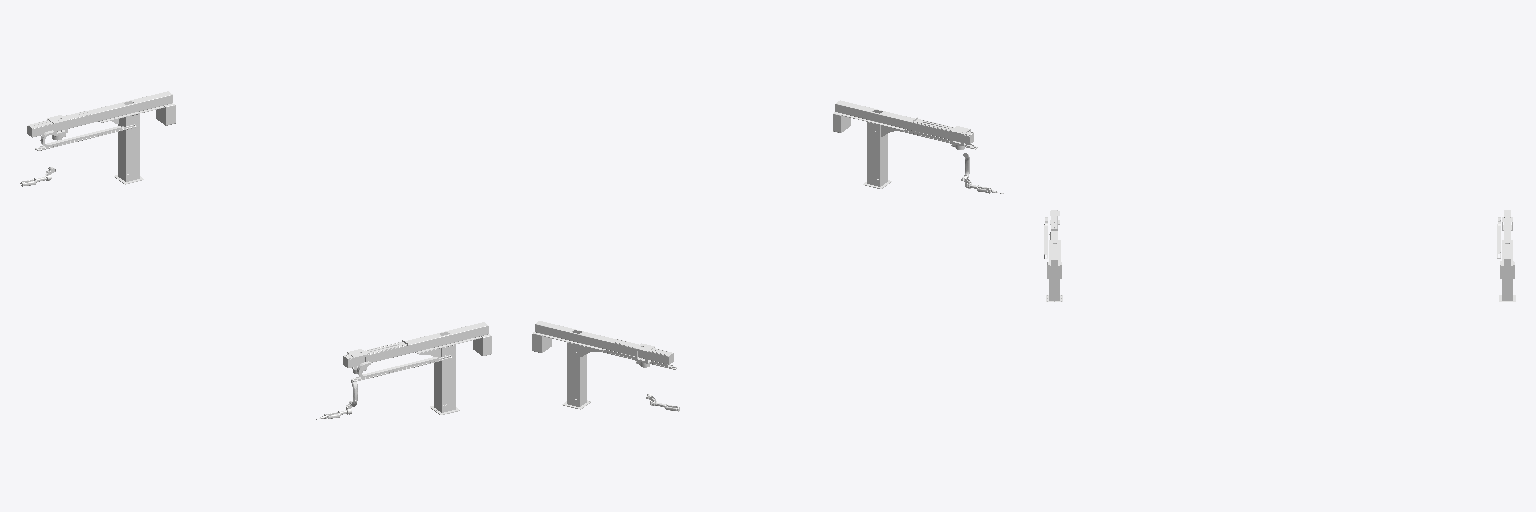
The robot description file, URDF, robot "天工机器人":
<?xml version="1.0" encoding="utf-8"?>
<!-- This URDF was automatically created by SolidWorks to URDF Exporter! Originally created by Stephen Brawner (brawner@gmail.com) 
     Commit Version: 1.6.0-4-g7f85cfe  Build Version: 1.6.7995.38578
     For more information, please see http://wiki.ros.org/sw_urdf_exporter -->
<robot
  name="天工机器人">
  <link
    name="base_link">
    <inertial>
      <origin
        xyz="0 0 0"
        rpy="0 0 0" />
    </inertial>
    <visual>
      <origin
        xyz="0 0 0"
        rpy="0 0 0" />
      <geometry>
        <mesh
          filename="meshes/base_link.STL" />
      </geometry>
      <material
        name="">
        <color
          rgba="1 1 1 1" />
      </material>
    </visual>
    <collision>
      <origin
        xyz="0 0 0"
        rpy="0 0 0" />
      <geometry>
        <mesh
          filename="meshes/base_link.STL" />
      </geometry>
    </collision>
  </link>
  <link
    name="Link1">
    <inertial>
      <origin
        xyz="0 0 0"
        rpy="0 0 0" />
      
    </inertial>
    <visual>
      <origin
        xyz="0 0 0"
        rpy="0 0 0" />
      <geometry>
        <mesh
          filename="meshes/Link1.STL" />
      </geometry>
      <material
        name="">
        <color
          rgba="1 1 1 1" />
      </material>
    </visual>
    <collision>
      <origin
        xyz="0 0 0"
        rpy="0 0 0" />
      <geometry>
        <mesh
          filename="meshes/Link1.STL" />
      </geometry>
    </collision>
  </link>
  <joint
    name="joint1"
    type="prismatic">
    <origin
      xyz="-0.0018683 -0.5 0.02"
      rpy="3.1416 0 -1.5708" />
    <parent
      link="base_link" />
    <child
      link="Link1" />
    <axis
      xyz="1 0 0" />
    <limit
      lower="0.1"
      upper="14"
      effort="0"
      velocity="0" />
  </joint>
  <link
    name="Link1-0">
    <inertial>
      <origin
        xyz="0 0 0"
        rpy="0 0 0" />
    </inertial>
    <visual>
      <origin
        xyz="0 0 0"
        rpy="0 0 0" />
      <geometry>
        <mesh
          filename="meshes/Link1-0.STL" />
      </geometry>
      <material
        name="">
        <color
          rgba="1 1 1 1" />
      </material>
    </visual>
    <collision>
      <origin
        xyz="0 0 0"
        rpy="0 0 0" />
      <geometry>
        <mesh
          filename="meshes/Link1-0.STL" />
      </geometry>
    </collision>
  </link>
  <joint
    name="joint1-0"
    type="prismatic">
    <origin
      xyz="-0.0057039 1.8015 -2.5569"
      rpy="-1.5708 0 -1.5708" />
    <parent
      link="Link1" />
    <child
      link="Link1-0" />
    <axis
      xyz="1 0 0" />
    <limit
      lower="-1.38"
      upper="-0.1"
      effort="0"
      velocity="0"/>
  </joint>
  <link
    name="Link1-1">
    <inertial>
      <origin
        xyz="0 0 0"
        rpy="0 0 0" />
    </inertial>
    <visual>
      <origin
        xyz="0 0 0"
        rpy="0 0 0" />
      <geometry>
        <mesh
          filename="meshes/Link1-1.STL" />
      </geometry>
      <material
        name="">
        <color
          rgba="1 1 1 1" />
      </material>
    </visual>
    <collision>
      <origin
        xyz="0 0 0"
        rpy="0 0 0" />
      <geometry>
        <mesh
          filename="meshes/Link1-1.STL" />
      </geometry>
    </collision>
  </link>
  <joint
    name="joint1-1"
    type="revolute">
    <origin
      xyz="0 -0.6255 0"
      rpy="0 1.5708 3.1416" />
    <parent
      link="Link1-0" />
    <child
      link="Link1-1" />
    <axis
      xyz="0 1 0" />
    <limit
      lower="-3.14"
      upper="3.14"
      effort="100"
      velocity="10" />
  </joint>
  <link
    name="Link1-2">
    <inertial>
      <origin
        xyz="0 0 0"
        rpy="0 0 0" />
      
    </inertial>
    <visual>
      <origin
        xyz="0 0 0"
        rpy="0 0 0" />
      <geometry>
        <mesh
          filename="meshes/Link1-2.STL" />
      </geometry>
      <material
        name="">
        <color
          rgba="1 1 1 1" />
      </material>
    </visual>
    <collision>
      <origin
        xyz="0 0 0"
        rpy="0 0 0" />
      <geometry>
        <mesh
          filename="meshes/Link1-2.STL" />
      </geometry>
    </collision>
  </link>
  <joint
    name="joint1-2"
    type="revolute">
    <origin
      xyz="-0.038003 0.242 0.18"
      rpy="0 -1.5708 -1.5708" />
    <parent
      link="Link1-1" />
    <child
      link="Link1-2" />
    <axis
      xyz="0 -1 0" />
    <limit
      lower="-3.14"
      upper="3.14"
      effort="100"
      velocity="10" />
  </joint>
  <link
    name="Link1-3">
    <inertial>
      <origin
        xyz="0 0 0"
        rpy="0 0 0" />
      
    </inertial>
    <visual>
      <origin
        xyz="0 0 0"
        rpy="0 0 0" />
      <geometry>
        <mesh
          filename="meshes/Link1-3.STL" />
      </geometry>
      <material
        name="">
        <color
          rgba="1 1 1 1" />
      </material>
    </visual>
    <collision>
      <origin
        xyz="0 0 0"
        rpy="0 0 0" />
      <geometry>
        <mesh
          filename="meshes/Link1-3.STL" />
      </geometry>
    </collision>
  </link>
  <joint
    name="joint1-3"
    type="revolute">
    <origin
      xyz="0 -0.008 0.8"
      rpy="0 0 0" />
    <parent
      link="Link1-2" />
    <child
      link="Link1-3" />
    <axis
      xyz="0 -1 0" />
    <limit
      lower="-3.14"
      upper="3.14"
      effort="100"
      velocity="10" />
  </joint>
  <link
    name="Link1-4">
    <inertial>
      <origin
        xyz="0 0 0"
        rpy="0 0 0" />
      
    </inertial>
    <visual>
      <origin
        xyz="0 0 0"
        rpy="0 0 0" />
      <geometry>
        <mesh
          filename="meshes/Link1-4.STL" />
      </geometry>
      <material
        name="">
        <color
          rgba="1 1 1 1" />
      </material>
    </visual>
    <collision>
      <origin
        xyz="0 0 0"
        rpy="0 0 0" />
      <geometry>
        <mesh
          filename="meshes/Link1-4.STL" />
      </geometry>
    </collision>
  </link>
  <joint
    name="joint1-4"
    type="revolute">
    <origin
      xyz="0.0835 0.0433 0.225"
      rpy="0 0 0" />
    <parent
      link="Link1-3" />
    <child
      link="Link1-4" />
    <axis
      xyz="1 0 0" />
    <limit
      lower="-3.14"
      upper="3.14"
      effort="100"
      velocity="10" />
  </joint>
  <link
    name="Link1-5">
    <inertial>
      <origin
        xyz="0 0 0"
        rpy="0 0 0" />
      
    </inertial>
    <visual>
      <origin
        xyz="0 0 0"
        rpy="0 0 0" />
      <geometry>
        <mesh
          filename="meshes/Link1-5.STL" />
      </geometry>
      <material
        name="">
        <color
          rgba="1 1 1 1" />
      </material>
    </visual>
    <collision>
      <origin
        xyz="0 0 0"
        rpy="0 0 0" />
      <geometry>
        <mesh
          filename="meshes/Link1-5.STL" />
      </geometry>
    </collision>
  </link>
  <joint
    name="joint1-5"
    type="revolute">
    <origin
      xyz="0.9265 -0.0353 0"
      rpy="0 0 0" />
    <parent
      link="Link1-4" />
    <child
      link="Link1-5" />
    <axis
      xyz="0 1 0" />
    <limit
      lower="-3.14"
      upper="3.14"
      effort="100"
      velocity="10" />
  </joint>
  <link
    name="Link1-6">
    <inertial>
      <origin
        xyz="0 0 0"
        rpy="0 0 0" />
      
    </inertial>
    <visual>
      <origin
        xyz="0 0 0"
        rpy="0 0 0" />
      <geometry>
        <mesh
          filename="meshes/Link1-6.STL" />
      </geometry>
      <material
        name="">
        <color
          rgba="1 1 1 1" />
      </material>
    </visual>
    <collision>
      <origin
        xyz="0 0 0"
        rpy="0 0 0" />
      <geometry>
        <mesh
          filename="meshes/Link1-6.STL" />
      </geometry>
    </collision>
  </link>
  <joint
    name="joint1-6"
    type="revolute">
    <origin
      xyz="0.094 0.0353 0"
      rpy="0 0 3.1416" />
    <parent
      link="Link1-5" />
    <child
      link="Link1-6" />
    <axis
      xyz="1 0 0" />
    <limit
      lower="-3.14"
      upper="3.14"
      effort="100"
      velocity="10" />
  </joint>
  <link
    name="Link2">
    <inertial>
      <origin
        xyz="0 0 0"
        rpy="0 0 0" />
      
    </inertial>
    <visual>
      <origin
        xyz="0 0 0"
        rpy="0 0 0" />
      <geometry>
        <mesh
          filename="meshes/Link2.STL" />
      </geometry>
      <material
        name="">
        <color
          rgba="1 1 1 1" />
      </material>
    </visual>
    <collision>
      <origin
        xyz="0 0 0"
        rpy="0 0 0" />
      <geometry>
        <mesh
          filename="meshes/Link2.STL" />
      </geometry>
    </collision>
  </link>
  <joint
    name="joint2"
    type="prismatic">
    <origin
      xyz="1.238 -27 1.958"
      rpy="-3.1416 0 -1.5708" />
    <parent
      link="base_link" />
    <child
      link="Link2" />
    <axis
      xyz="1 0 0" />
    <limit
      lower="-25"
      upper="0"
      effort="100"
      velocity="10"/>
  </joint>
  <link
    name="Link2-0">
    <inertial>
      <origin
        xyz="0 0 0"
        rpy="0 0 0" />
      
    </inertial>
    <visual>
      <origin
        xyz="0 0 0"
        rpy="0 0 0" />
      <geometry>
        <mesh
          filename="meshes/Link2-0.STL" />
      </geometry>
      <material
        name="">
        <color
          rgba="1 1 1 1" />
      </material>
    </visual>
    <collision>
      <origin
        xyz="0 0 0"
        rpy="0 0 0" />
      <geometry>
        <mesh
          filename="meshes/Link2-0.STL" />
      </geometry>
    </collision>
  </link>
  <joint
    name="joint2-0"
    type="prismatic">
    <origin
      xyz="0 4.3248 -0.646"
      rpy="-1.5708 0 -1.5708" />
    <parent
      link="Link2" />
    <child
      link="Link2-0" />
    <axis
      xyz="1 0 0" />
    <limit
      lower="0"
      upper="1.7"
      effort="100"
      velocity="10" />
  </joint>
  <link
    name="Link2-1">
    <inertial>
      <origin
        xyz="0 0 0"
        rpy="0 0 0" />
     
    </inertial>
    <visual>
      <origin
        xyz="0 0 0"
        rpy="0 0 0" />
      <geometry>
        <mesh
          filename="meshes/Link2-1.STL" />
      </geometry>
      <material
        name="">
        <color
          rgba="1 1 1 1" />
      </material>
    </visual>
    <collision>
      <origin
        xyz="0 0 0"
        rpy="0 0 0" />
      <geometry>
        <mesh
          filename="meshes/Link2-1.STL" />
      </geometry>
    </collision>
  </link>
  <joint
    name="joint2-1"
    type="revolute">
    <origin
      xyz="0 -0.6205 0"
      rpy="0 1.5708 3.1416" />
    <parent
      link="Link2-0" />
    <child
      link="Link2-1" />
    <axis
      xyz="0 -1 0" />
    <limit
      lower="-3.14"
      upper="3.14"
      effort="100"
      velocity="10"/>
  </joint>
  <link
    name="Link2-2">
    <inertial>
      <origin
        xyz="0 0 0"
        rpy="0 0 0" />
      
    </inertial>
    <visual>
      <origin
        xyz="0 0 0"
        rpy="0 0 0" />
      <geometry>
        <mesh
          filename="meshes/Link2-2.STL" />
      </geometry>
      <material
        name="">
        <color
          rgba="1 1 1 1" />
      </material>
    </visual>
    <collision>
      <origin
        xyz="0 0 0"
        rpy="0 0 0" />
      <geometry>
        <mesh
          filename="meshes/Link2-2.STL" />
      </geometry>
    </collision>
  </link>
  <joint
    name="joint2-2"
    type="revolute">
    <origin
      xyz="-0.038003 0.242 0.18"
      rpy="0 -1.5708 -1.5708" />
    <parent
      link="Link2-1" />
    <child
      link="Link2-2" />
    <axis
      xyz="0 -1 0" />
    <limit
      lower="-3.14"
      upper="3.14"
      effort="100"
      velocity="10" />
  </joint>
  <link
    name="Link2-3">
    <inertial>
      <origin
        xyz="0 0 0"
        rpy="0 0 0" />
     
    </inertial>
    <visual>
      <origin
        xyz="0 0 0"
        rpy="0 0 0" />
      <geometry>
        <mesh
          filename="meshes/Link2-3.STL" />
      </geometry>
      <material
        name="">
        <color
          rgba="1 1 1 1" />
      </material>
    </visual>
    <collision>
      <origin
        xyz="0 0 0"
        rpy="0 0 0" />
      <geometry>
        <mesh
          filename="meshes/Link2-3.STL" />
      </geometry>
    </collision>
  </link>
  <joint
    name="joint2-3"
    type="revolute">
    <origin
      xyz="0 -0.008 0.8"
      rpy="0 0 0" />
    <parent
      link="Link2-2" />
    <child
      link="Link2-3" />
    <axis
      xyz="0 -1 0" />
    <limit
      llower="-3.14"
      upper="3.14"
      effort="100"
      velocity="10"/>
  </joint>
  <link
    name="Link2-4">
    <inertial>
      <origin
        xyz="0 0 0 "
        rpy="0 0 0" />
      
    </inertial>
    <visual>
      <origin
        xyz="0 0 0"
        rpy="0 0 0" />
      <geometry>
        <mesh
          filename="meshes/Link2-4.STL" />
      </geometry>
      <material
        name="">
        <color
          rgba="1 1 1 1" />
      </material>
    </visual>
    <collision>
      <origin
        xyz="0 0 0"
        rpy="0 0 0" />
      <geometry>
        <mesh
          filename="meshes/Link2-4.STL" />
      </geometry>
    </collision>
  </link>
  <joint
    name="joint2-4"
    type="revolute">
    <origin
      xyz="0.0835 0.0433 0.225"
      rpy="0 0 0" />
    <parent
      link="Link2-3" />
    <child
      link="Link2-4" />
    <axis
      xyz="1 0 0" />
    <limit
      lower="-3.14"
      upper="3.14"
      effort="100"
      velocity="10" />
  </joint>
  <link
    name="Link2-5">
    <inertial>
      <origin
        xyz="0 0 0"
        rpy="0 0 0" />
      
    </inertial>
    <visual>
      <origin
        xyz="0 0 0"
        rpy="0 0 0" />
      <geometry>
        <mesh
          filename="meshes/Link2-5.STL" />
      </geometry>
      <material
        name="">
        <color
          rgba="1 1 1 1" />
      </material>
    </visual>
    <collision>
      <origin
        xyz="0 0 0"
        rpy="0 0 0" />
      <geometry>
        <mesh
          filename="meshes/Link2-5.STL" />
      </geometry>
    </collision>
  </link>
  <joint
    name="joint2-5"
    type="revolute">
    <origin
      xyz="0.7905 -0.0353 0"
      rpy="0 0 0" />
    <parent
      link="Link2-4" />
    <child
      link="Link2-5" />
    <axis
      xyz="0 1 0" />
    <limit
      lower="-3.14"
      upper="3.14"
      effort="100"
      velocity="10" />
  </joint>
  <link
    name="Link2-6">
    <inertial>
      <origin
        xyz="0 0 0"
        rpy="0 0 0" />
      
    </inertial>
    <visual>
      <origin
        xyz="0 0 0"
        rpy="0 0 0" />
      <geometry>
        <mesh
          filename="meshes/Link2-6.STL" />
      </geometry>
      <material
        name="">
        <color
          rgba="1 1 1 1" />
      </material>
    </visual>
    <collision>
      <origin
        xyz="0 0 0"
        rpy="0 0 0" />
      <geometry>
        <mesh
          filename="meshes/Link2-6.STL" />
      </geometry>
    </collision>
  </link>
  <joint
    name="joint2-6"
    type="revolute">
    <origin
      xyz="0.094 0.0353 0"
      rpy="0 0 3.1416" />
    <parent
      link="Link2-5" />
    <child
      link="Link2-6" />
    <axis
      xyz="1 0 0" />
    <limit
      lower="-3.14"
      upper="3.14"
      effort="100"
      velocity="10"/>
  </joint>
</robot>

--- Render facts (derived) ---
3 views of the same robot in one strip: view 1: azimuth 30°, elevation 25°; view 2: azimuth 150°, elevation 25°; view 3: azimuth 270°, elevation 25° (orthographic).
Robot: 天工机器人 — 17 links, 16 joints (12 revolute, 4 prismatic); root link base_link; default pose: joints at zero except 2 at the middle of their limits (joint1 = 7.05, joint1-0 = -0.74).
Visible links, largest first — view 1: Link2, Link1; view 2: Link2, Link1; view 3: Link2, Link1.
Boxes of the visible links, x1,y1,x2,y2 form: Link2: (343,322,491,414); Link1: (27,91,175,184); Link2: (833,100,977,188); Link1: (532,321,676,409); Link2: (1044,210,1062,301); Link1: (1497,210,1515,301).
Bounding box of the posed robot: 6.17 × 20.25 × 2.63 m (x, y, z).
12 mesh visuals loaded from 17 distinct referenced files (12 binary STL); not drawn: 5 (reference not matched to a file when rendering).
